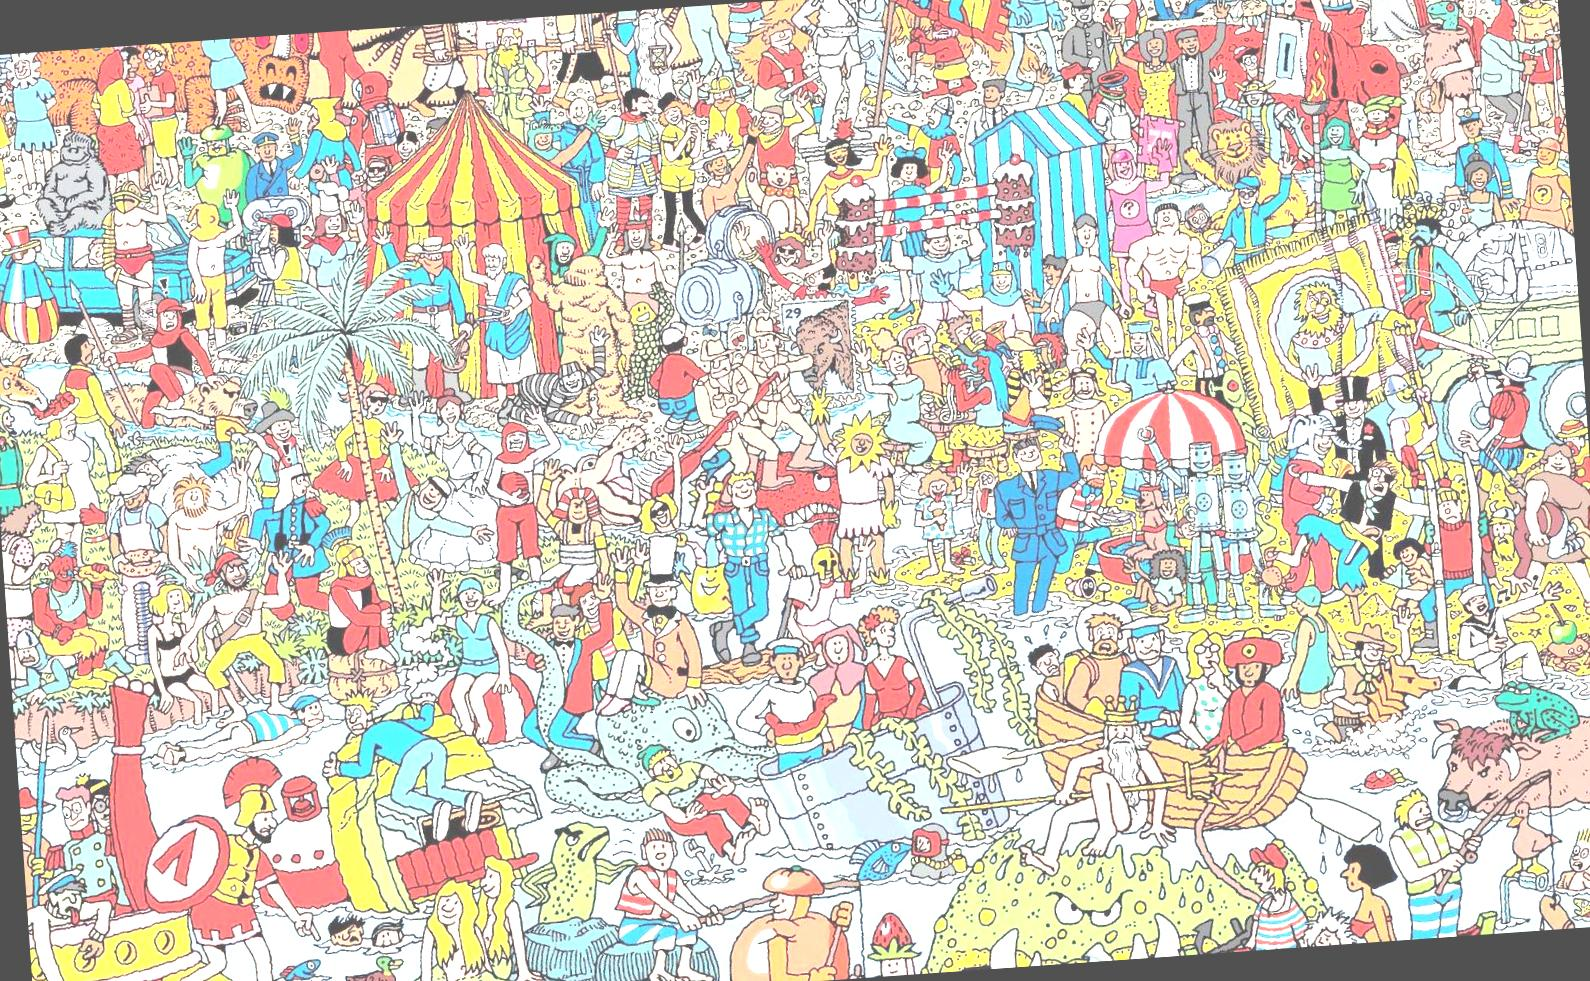waldo: (1229, 42, 1262, 79)
